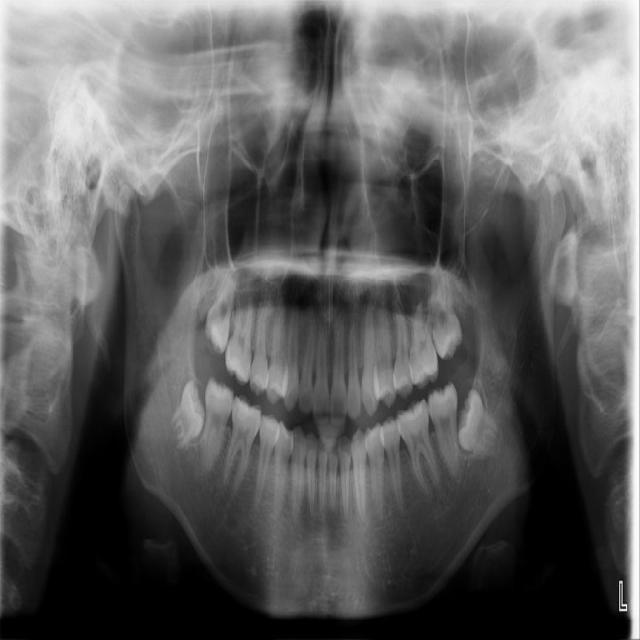73: (590, 573, 594, 586)
BioHorizons Implant: (426, 265, 464, 362)
Biomet 3i Implant: (453, 388, 504, 459)
Blue Sky Bio Implant: (425, 381, 462, 481)
Caries: (200, 264, 242, 356)
Implant: (198, 377, 236, 477)
Keystone Dental Implant: (163, 376, 218, 453)
